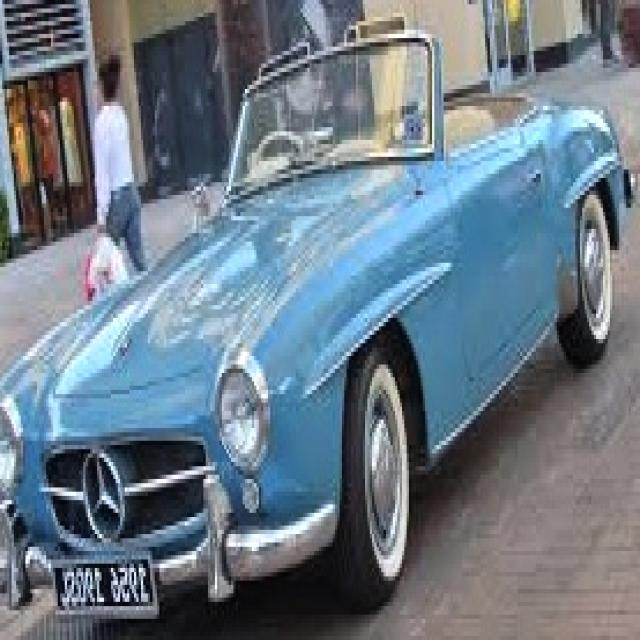blue: (29, 46, 622, 640)
